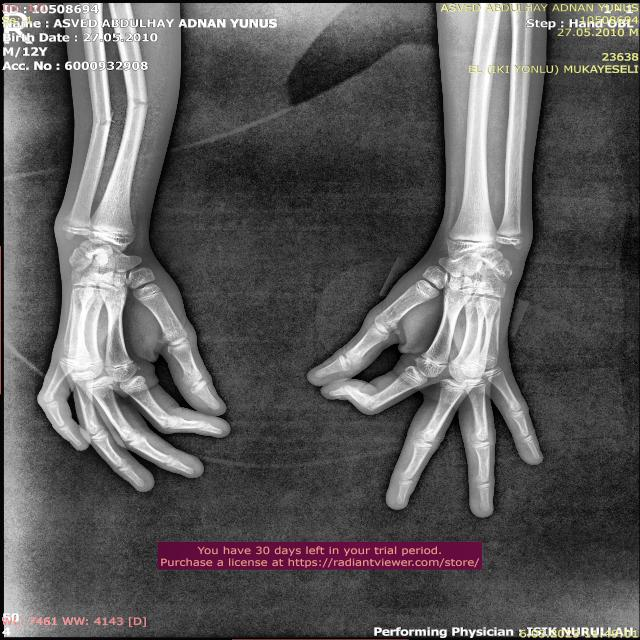Fracture: (88, 110, 116, 129), (124, 95, 152, 111)
